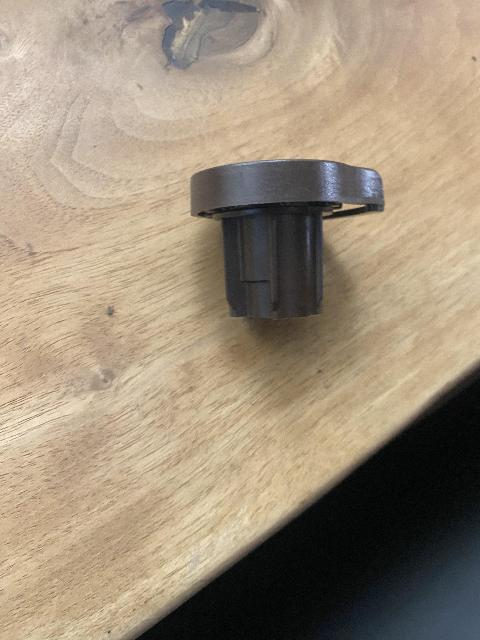Plastik: (187, 157, 386, 317)
